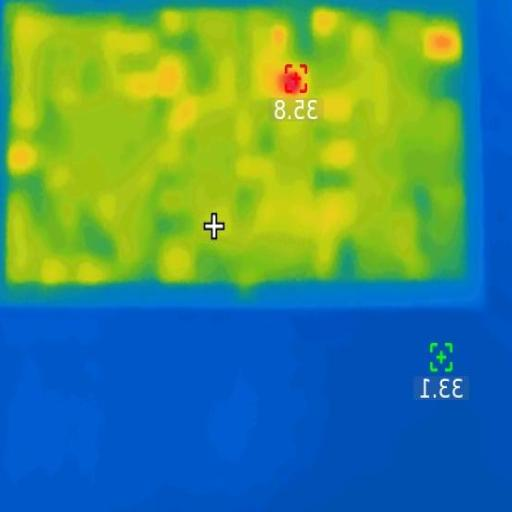hotspot: (280, 65, 308, 103)
